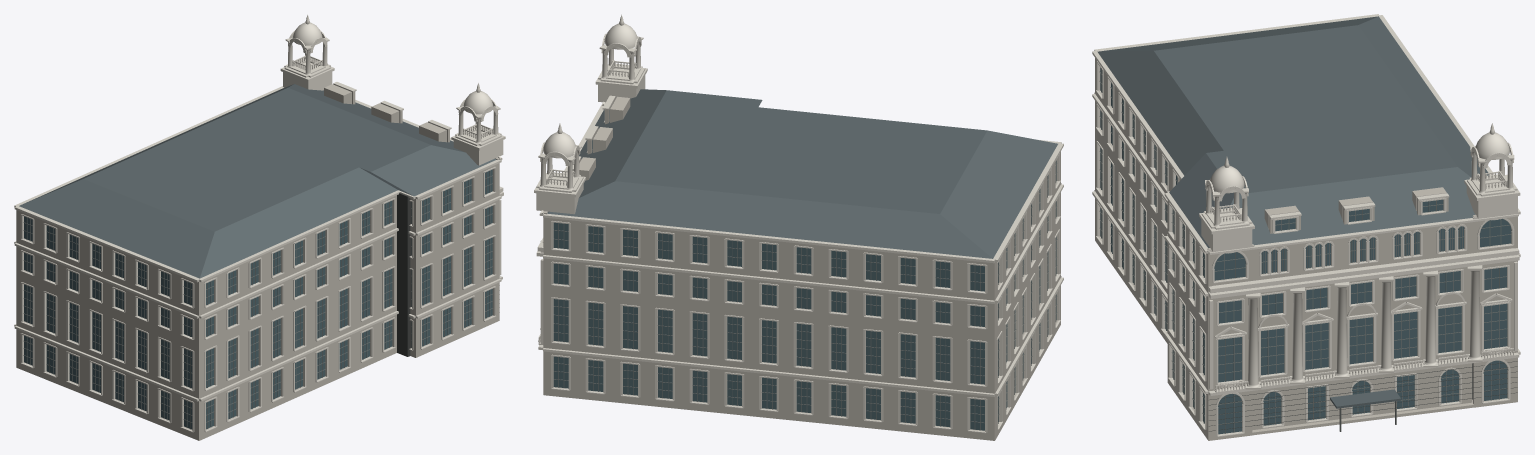
The model's file is bund02.glb.
3 renders of one model, left to right at view 1: azimuth 30°, elevation 25°; view 2: azimuth 150°, elevation 25°; view 3: azimuth 270°, elevation 25°, orthographic. The views are drawn at different scales.
Parts seen in each view (by area): view 1: bund02; view 2: bund02; view 3: bund02.
Part boxes in pixels (left/top/right/bottom): bund02: left=14, top=14, right=505, bottom=440; bund02: left=534, top=14, right=1063, bottom=440; bund02: left=1092, top=14, right=1520, bottom=440.
Bounding box in the file's own units: 65.25 × 35 × 49.
